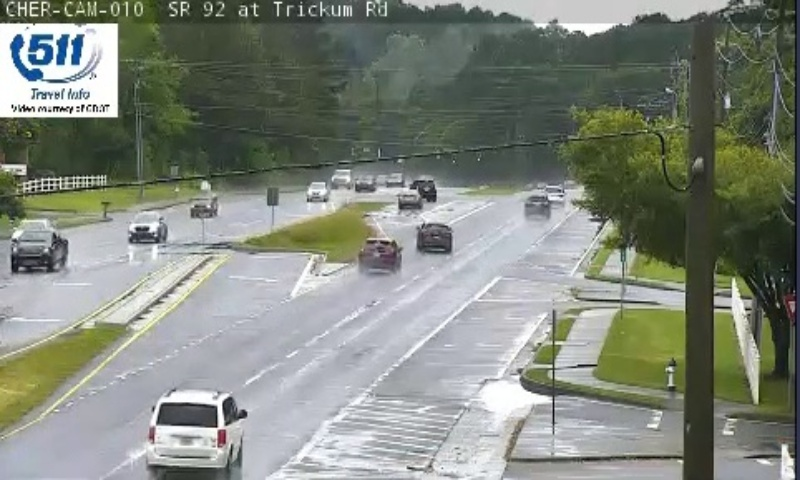car: (147, 391, 243, 469), (358, 238, 398, 268), (418, 223, 453, 250), (526, 194, 549, 216)
